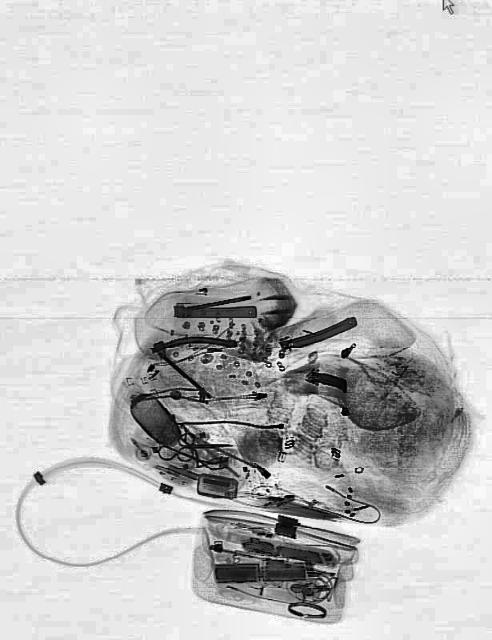Scissors: (176, 431, 232, 462)
